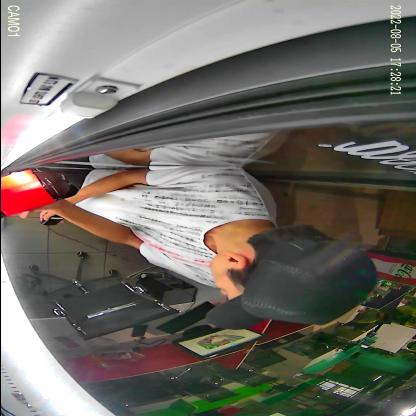red: (0, 166, 78, 218)
